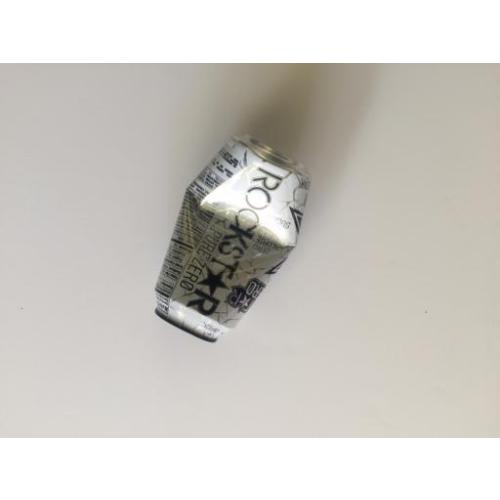metal: (154, 130, 310, 343)
